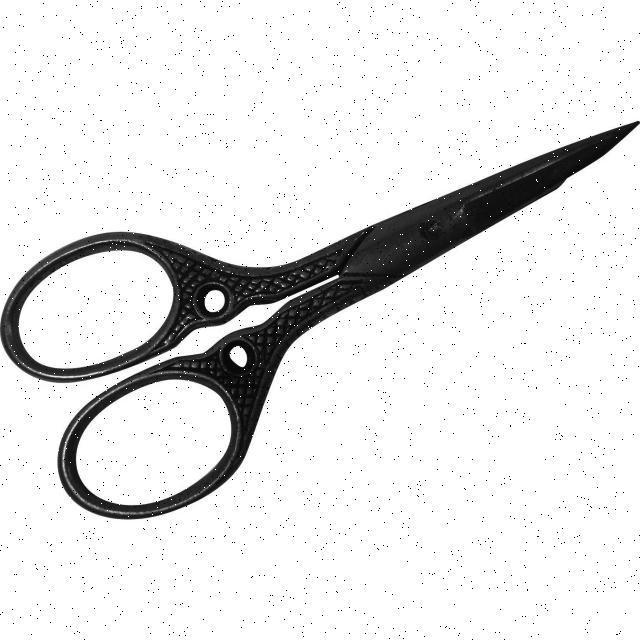scissors: (3, 117, 640, 524)
